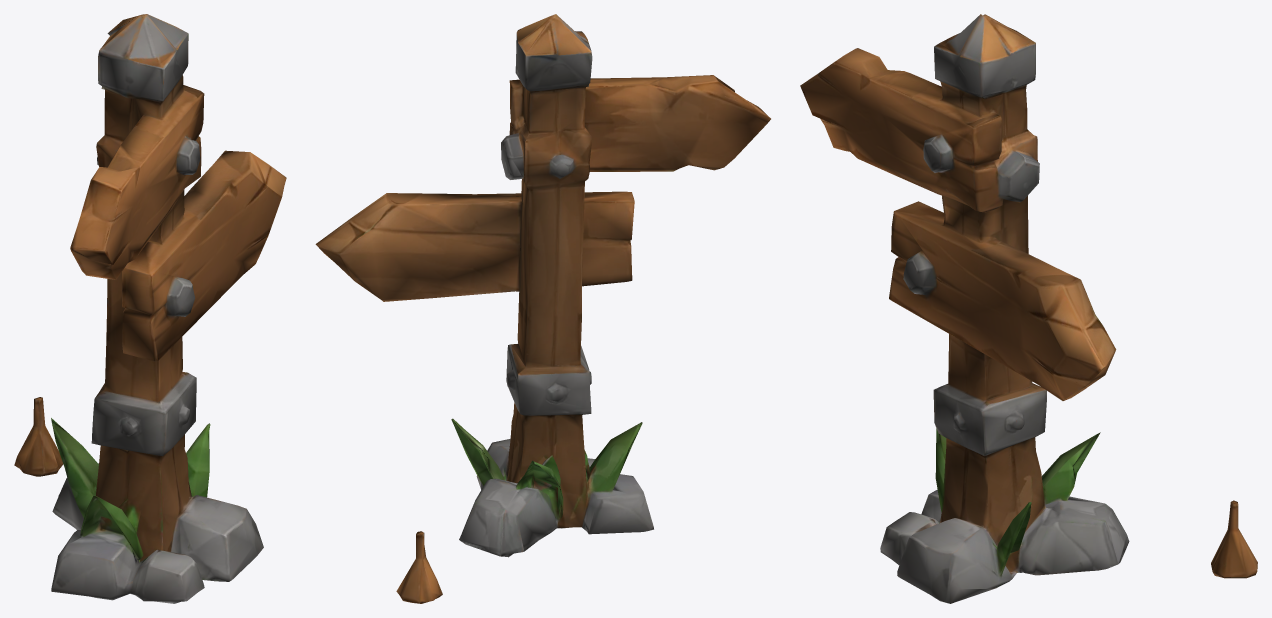
The model's file is dec_sign.glb.
The picture shows the model from 3 angles, left to right: view 1: azimuth 30°, elevation 25°; view 2: azimuth 150°, elevation 25°; view 3: azimuth 270°, elevation 25°; orthographic projection. The views are drawn at different scales.
Visible parts, largest first — view 1: BakeLow; view 2: BakeLow; view 3: BakeLow.
Boxes of the visible parts, left/top/right/bottom form: BakeLow: left=14, top=14, right=286, bottom=603; BakeLow: left=315, top=14, right=770, bottom=603; BakeLow: left=800, top=14, right=1257, bottom=603.
Bounding box in the file's own units: 0.5962 × 0.8773 × 0.6639.
Materials: 1 (1 with a texture image).
